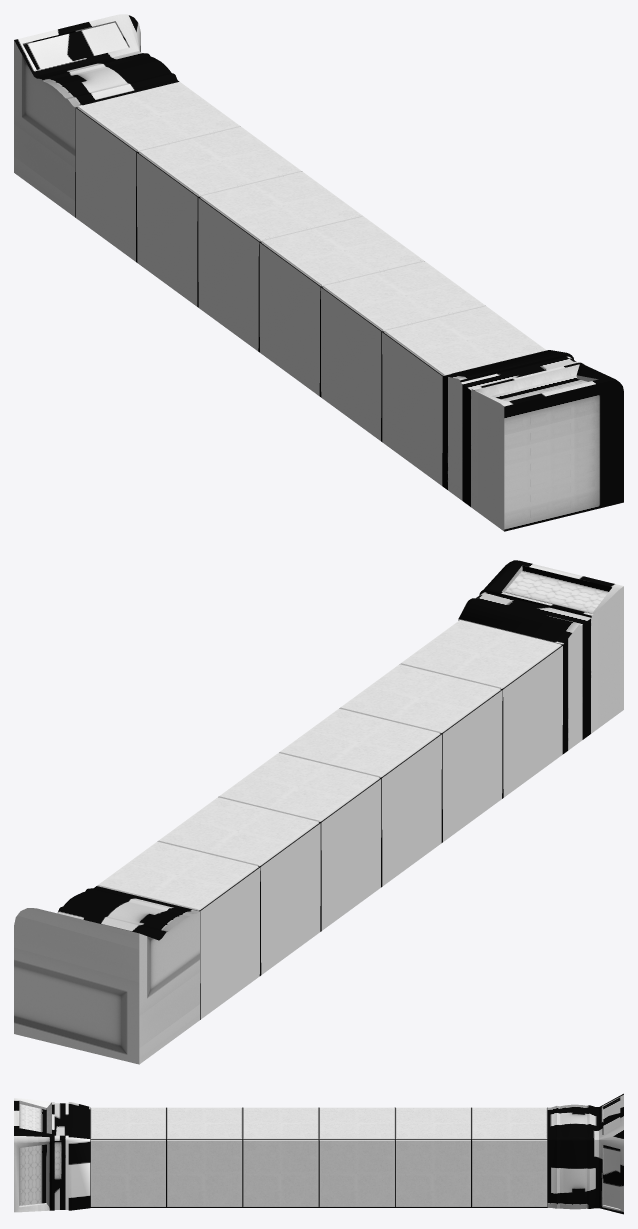
The model's file is WallCornerOut_6.fbx.
3 renders of one model, top to bottom at view 1: azimuth 30°, elevation 25°; view 2: azimuth 150°, elevation 25°; view 3: azimuth 270°, elevation 25°, orthographic. The views are drawn at different scales.
Visible parts, largest first — view 1: WallCornerOut_6; view 2: WallCornerOut_6; view 3: WallCornerOut_6.
Boxes of the visible parts, x1,y1,x2,y2 form: WallCornerOut_6: (14, 14, 623, 531); WallCornerOut_6: (14, 560, 623, 1064); WallCornerOut_6: (14, 1093, 623, 1214).
Bounding box in the file's own units: 1.19 × 1.19 × 8.
